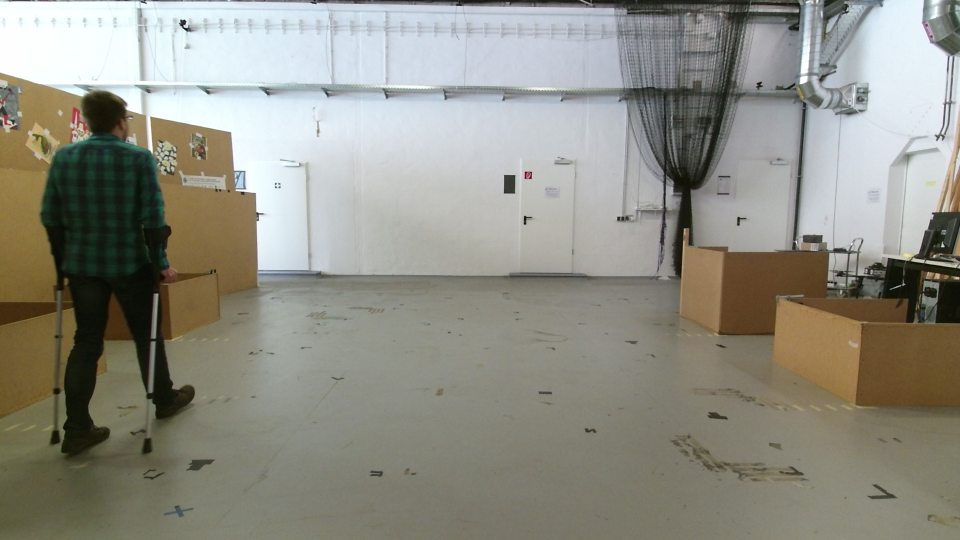crutches: (6, 84, 198, 475)
